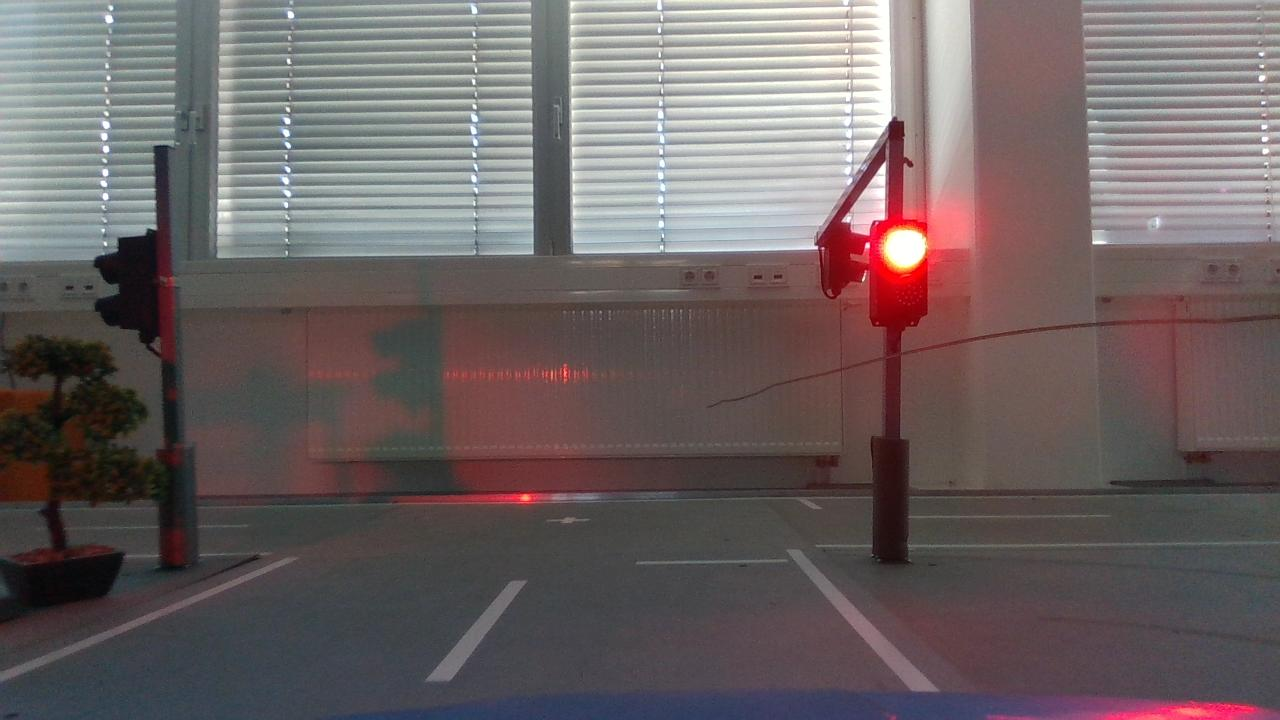traffic_light_red: (859, 205, 943, 340)
